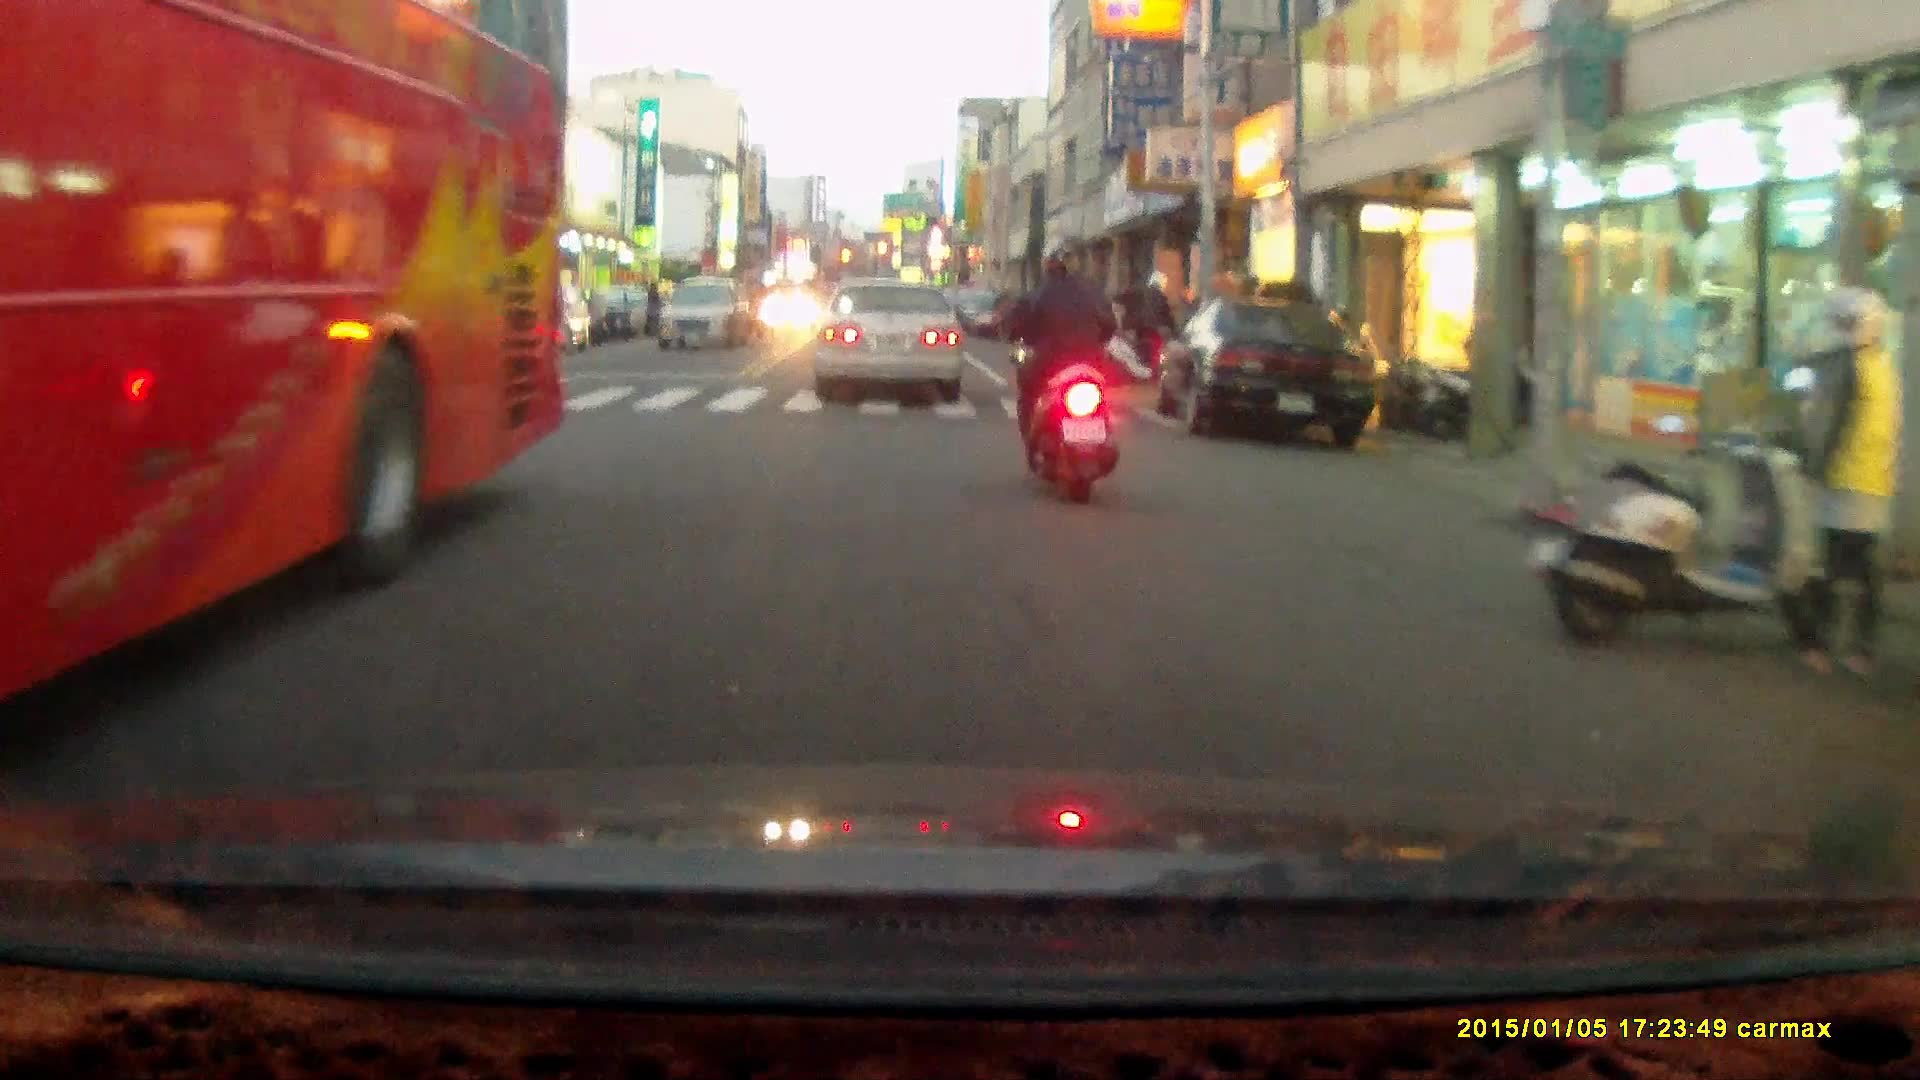pedestrian: (1784, 278, 1905, 678), (1140, 271, 1179, 395), (644, 277, 666, 343)
rider: (992, 242, 1118, 508)
vehicle: (1, 16, 571, 724), (1151, 302, 1389, 448), (814, 278, 966, 407), (478, 282, 586, 359), (654, 280, 753, 354)
